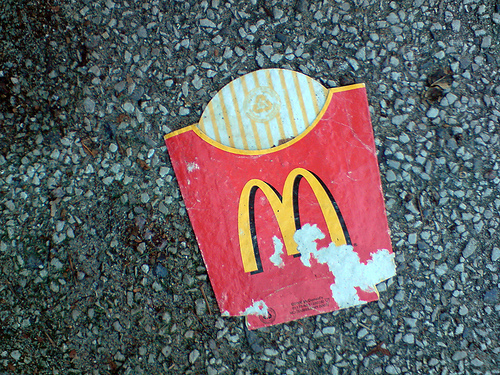litter: (161, 65, 399, 331)
